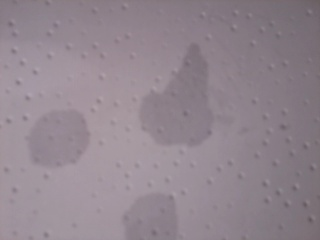Water_detected: (145, 66, 215, 133), (26, 114, 84, 162), (124, 197, 164, 240)
